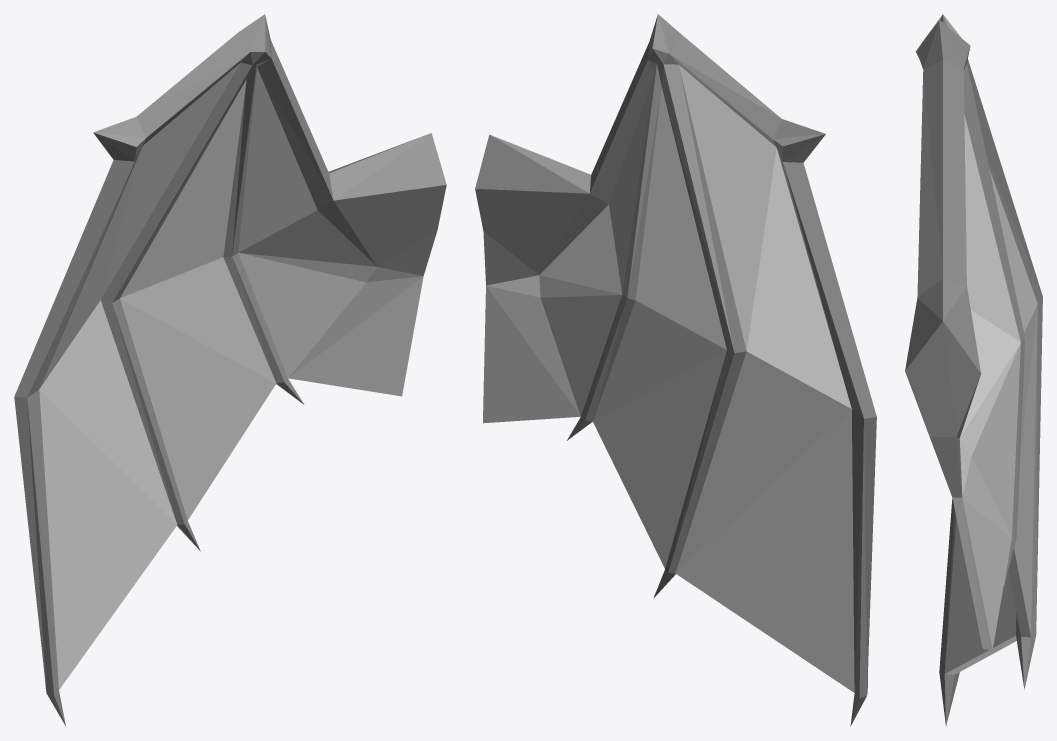
File: Enemy_Bat_Idle.fbx
3 views of the same model, side by side, from view 1: azimuth 30°, elevation 25°; view 2: azimuth 150°, elevation 25°; view 3: azimuth 270°, elevation 25° (orthographic). The views are drawn at different scales.
Parts seen in each view (by area): view 1: Enemy_Bat_Idle; view 2: Enemy_Bat_Idle; view 3: Enemy_Bat_Idle.
Part boxes in pixels (x1=…): Enemy_Bat_Idle: x1=14, y1=14, x2=446, y2=725; Enemy_Bat_Idle: x1=475, y1=14, x2=876, y2=726; Enemy_Bat_Idle: x1=905, y1=14, x2=1042, y2=725.
Bounding box in the file's own units: 201 × 316 × 47.97.
